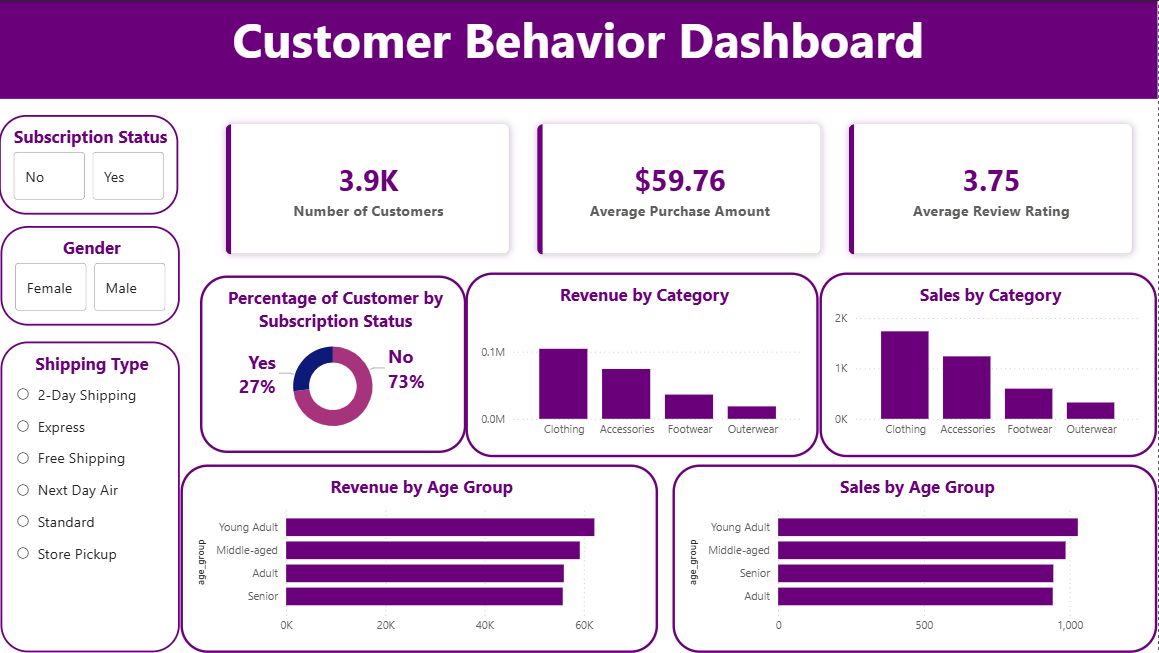

The page's visual inventory and layout, read from the dashboard file:
{"tool":"powerbi","page":{"name":"Page 1","canvas":[1280,720],"ordinal":0},"visuals":[{"type":"cardVisual","fields":{"Data":["public customer.Number of Customers","public customer.Average Purchase Amount","public customer.Average Review Rating"]},"box":[221.6,107.8,1058.8,200],"z":0},{"type":"shape","box":[0,0,1279.4,107.7],"z":1000},{"type":"textbox","box":[0,0,1279.4,107.7],"z":2000},{"type":"donutChart","title":"Percentage of Customer by Subscription Status","fields":{"Category":["public customer.subscription_status"],"Y":["CountNonNull(public customer.customer_id)"]},"box":[221.6,303.9,294.1,196.1],"z":3000},{"type":"clusteredColumnChart","title":"Revenue by Category","fields":{"Y":["Sum(public customer.purchase_amount)"],"Category":["public customer.category"]},"box":[515.7,300,390.2,203.9],"z":4000},{"type":"clusteredColumnChart","title":"Sales by Category","fields":{"Y":["CountNonNull(public customer.customer_id)"],"Category":["public customer.category"]},"box":[905.9,300,372.5,203.9],"z":5000},{"type":"advancedSlicerVisual","title":"Subscription Status","fields":{"Values":["public customer.subscription_status"]},"box":[0,125.5,198,109.8],"z":6000},{"type":"advancedSlicerVisual","title":"Gender","fields":{"Values":["public customer.gender"]},"box":[2,249,198,109.8],"z":7000},{"type":"listSlicer","title":"Shipping Type","fields":{"Values":["public customer.shipping_type"]},"box":[2,376.5,198,343.1],"z":8000},{"type":"clusteredBarChart","title":"Revenue by Age Group","fields":{"Y":["Sum(public customer.purchase_amount)"],"Category":["public customer.age_group"]},"box":[200,511.8,527.5,207.8],"z":9000},{"type":"clusteredBarChart","title":"Sales by Age Group","fields":{"Y":["CountNonNull(public customer.customer_id)"],"Category":["public customer.age_group"]},"box":[743.1,511.8,535.3,207.8],"z":10000}]}

Visuals, with their boxes in screenshot pixels (x1, y1, x2, y2), scaled from the page's 1280x720 canvas onto the 1159x653 screenshot:
cardVisual - public customer.Number of Customers x public customer.Average Purchase Amount: [201, 98, 1158, 279]
shape: [0, 0, 1158, 98]
textbox: [0, 0, 1158, 98]
"Percentage of Customer by Subscription Status" donutChart: [201, 276, 467, 453]
"Revenue by Category" clusteredColumnChart: [467, 272, 820, 457]
"Sales by Category" clusteredColumnChart: [820, 272, 1158, 457]
"Subscription Status" advancedSlicerVisual: [0, 114, 179, 213]
"Gender" advancedSlicerVisual: [2, 226, 181, 325]
"Shipping Type" listSlicer: [2, 341, 181, 652]
"Revenue by Age Group" clusteredBarChart: [181, 464, 659, 652]
"Sales by Age Group" clusteredBarChart: [673, 464, 1158, 652]
